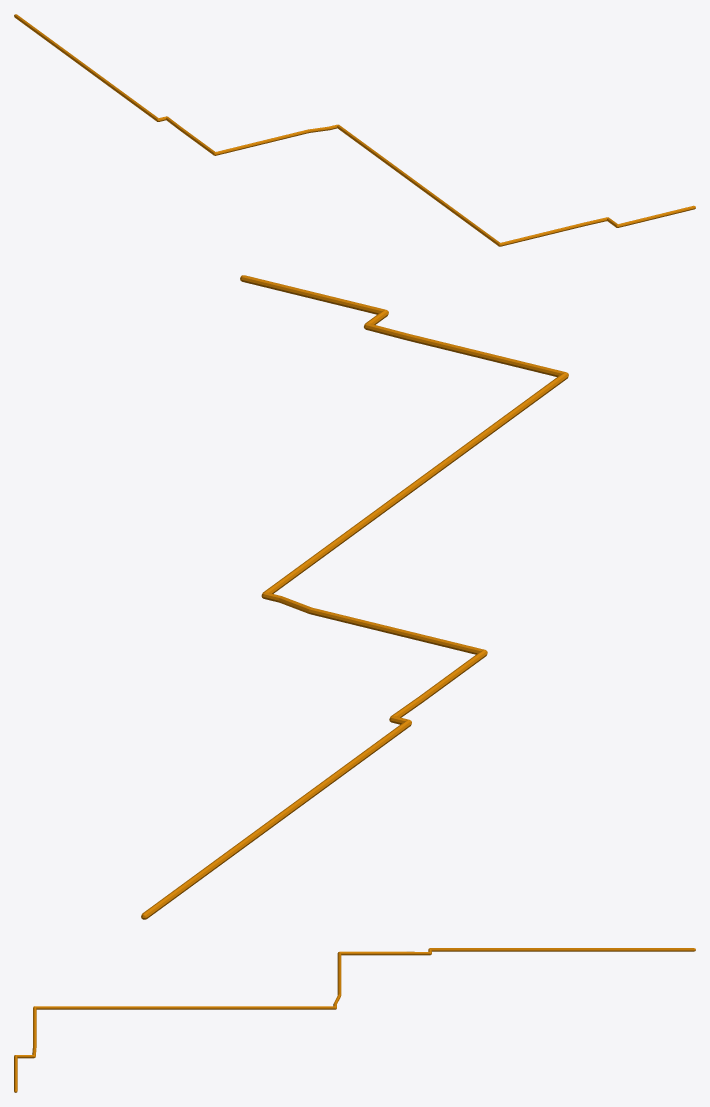
3 views of the same model, one above another, from view 1: azimuth 30°, elevation 25°; view 2: azimuth 150°, elevation 25°; view 3: azimuth 270°, elevation 25° (orthographic). The views are drawn at different scales.
Size of the model in its own units: 1857 by 20 by 3745.
